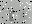person: (7, 11, 14, 22)
